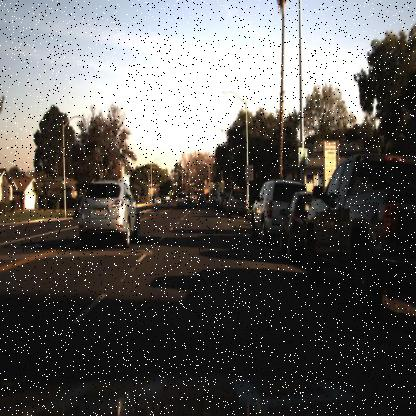car: (302, 150, 416, 329), (67, 164, 146, 260), (247, 174, 282, 245), (279, 189, 303, 264), (225, 182, 247, 220), (194, 190, 207, 210), (150, 195, 158, 209)
